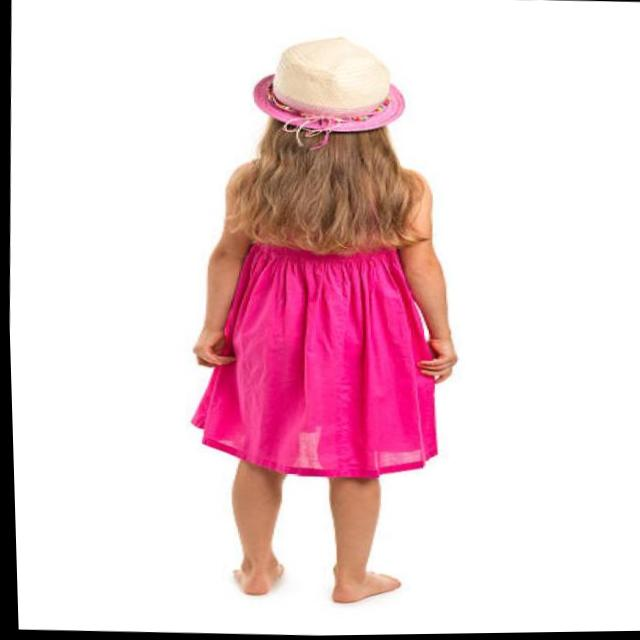no helmet: (217, 23, 444, 247)
